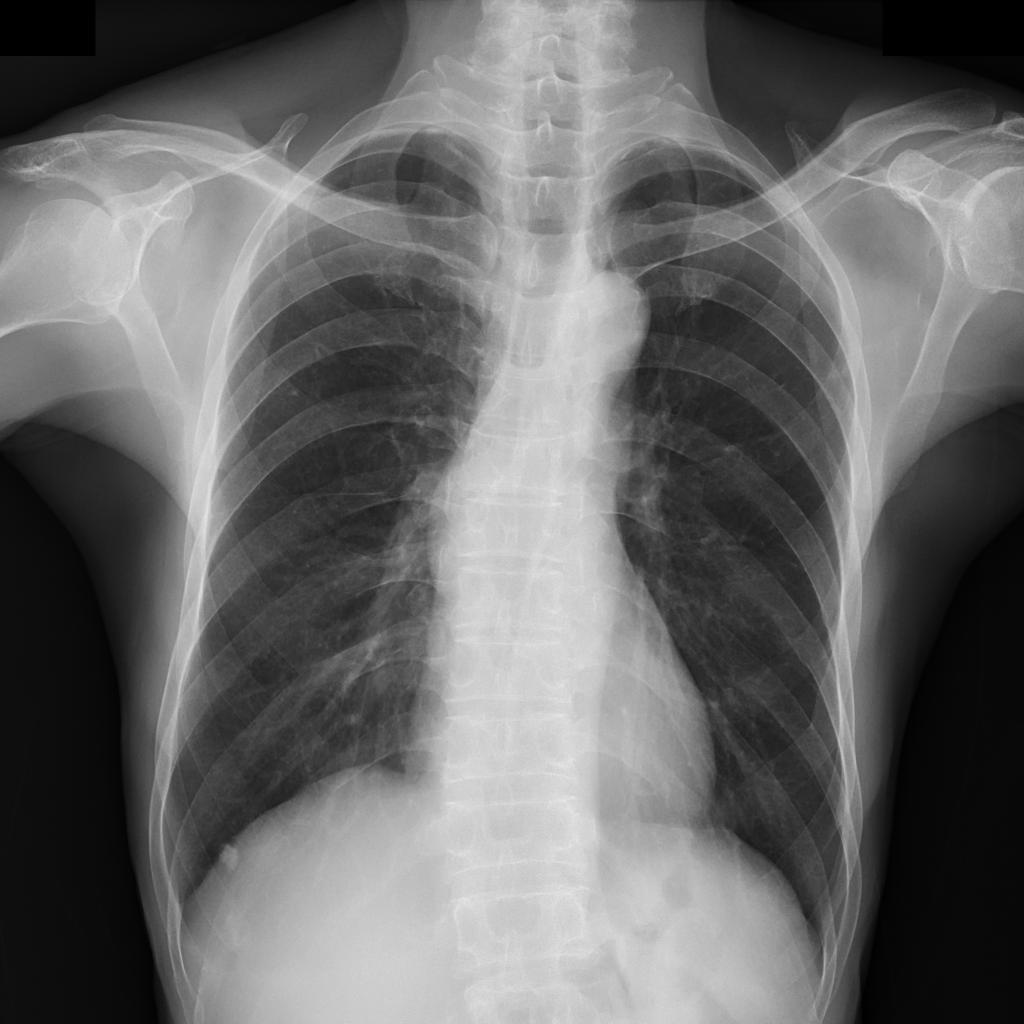Nodule: (217, 837, 240, 871)
